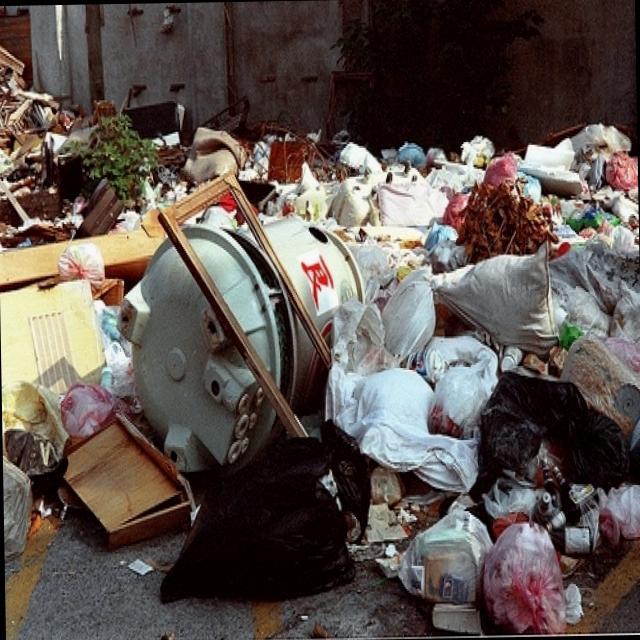garbage: (0, 4, 640, 631)
